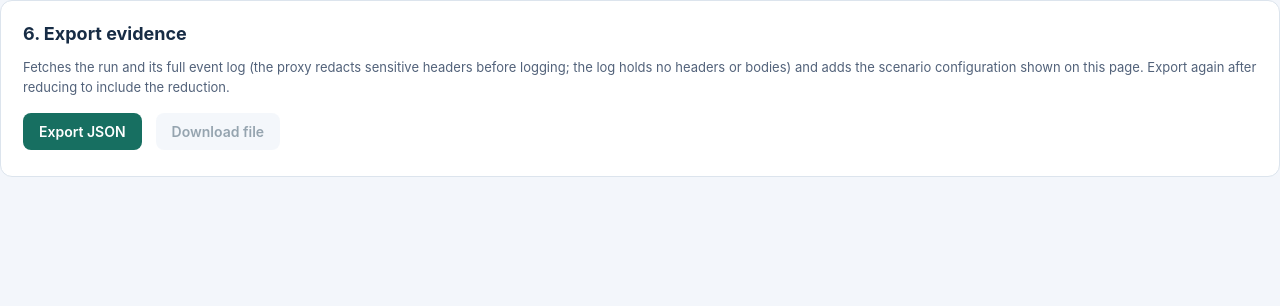
<ExportPanel/> › announces a failed export as an alert and offers no download
This screenshot has width=1280, height=306.
Step 1. Click the button "Export JSON" → [82, 132], box [23,113,142,150]
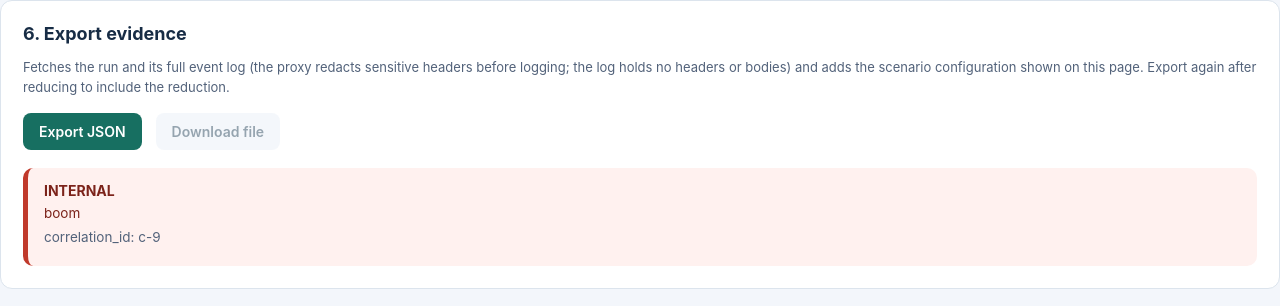
Expected: the button "Download file" is disabled, [156,113,280,150]
Expected: the message shows "boom", [44,205,80,221]
